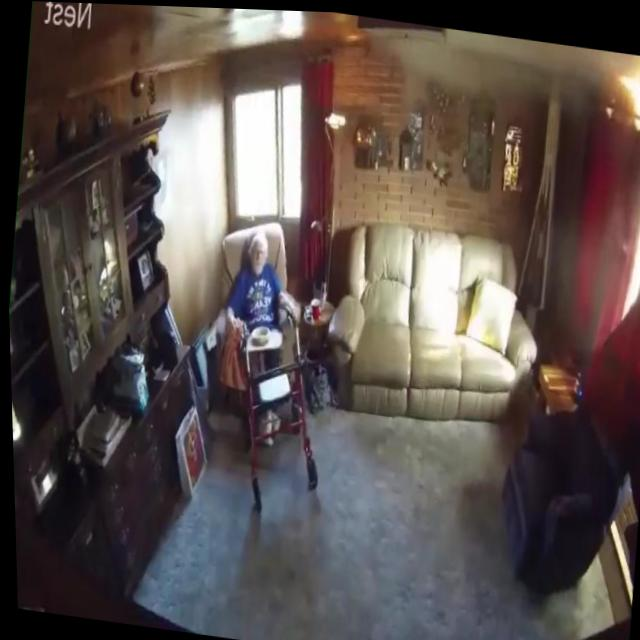fire: (612, 57, 640, 132)
